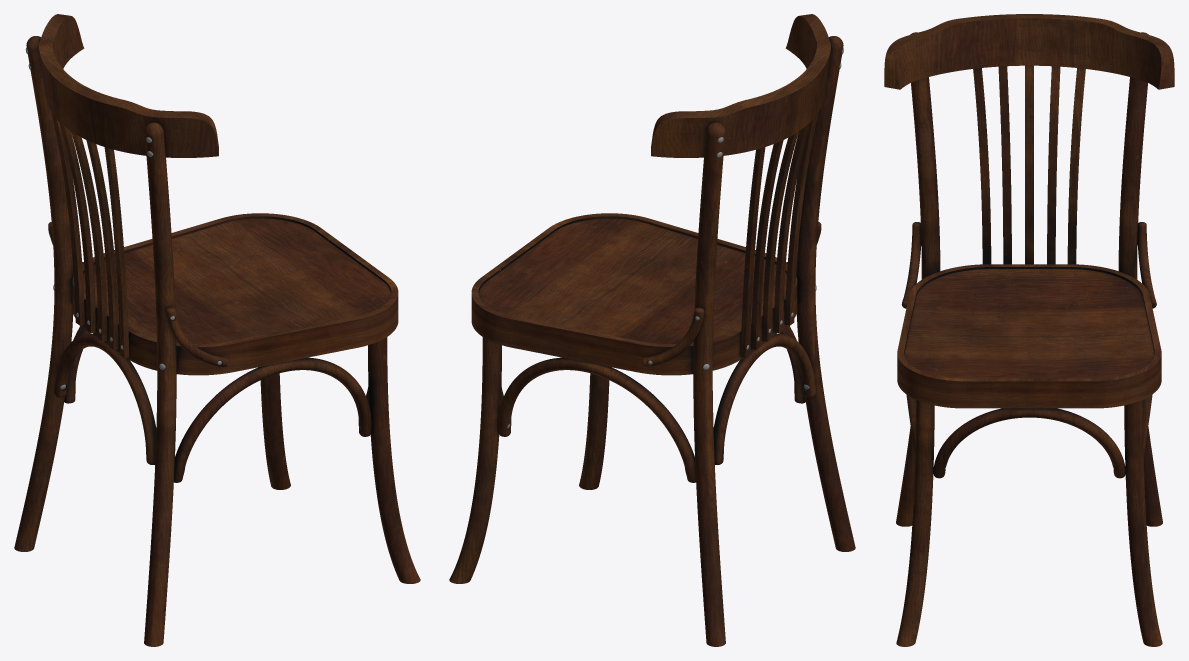
The model's file is chair.dae.
3 renders of one model, left to right at view 1: azimuth 30°, elevation 25°; view 2: azimuth 150°, elevation 25°; view 3: azimuth 270°, elevation 25°, orthographic. The views are drawn at different scales.
Visible parts, largest first — view 1: Chair.002; view 2: Chair.002; view 3: Chair.002.
Part boxes in pixels (x1,y1,x2,y2): Chair.002: [14, 14, 420, 646]; Chair.002: [449, 14, 855, 646]; Chair.002: [884, 14, 1174, 646].
Bounding box in the file's own units: 0.8032 × 0.7192 × 1.37.
Materials: 1 (1 with a texture image).
